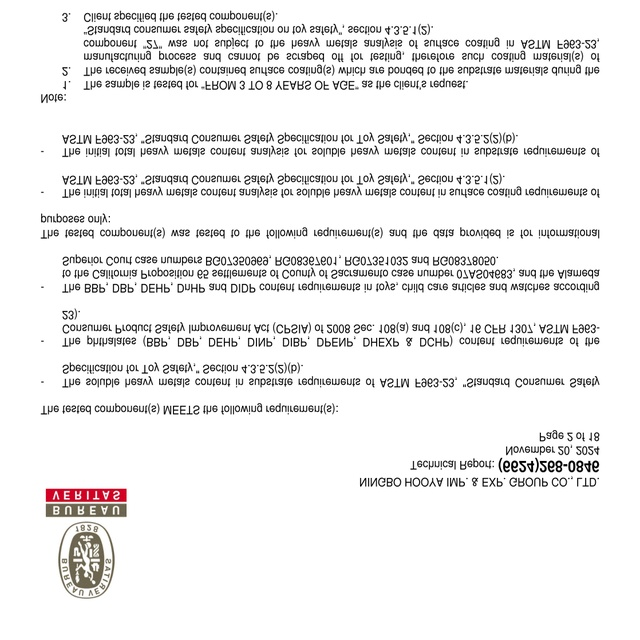bureau_veritas: (43, 484, 131, 606)
